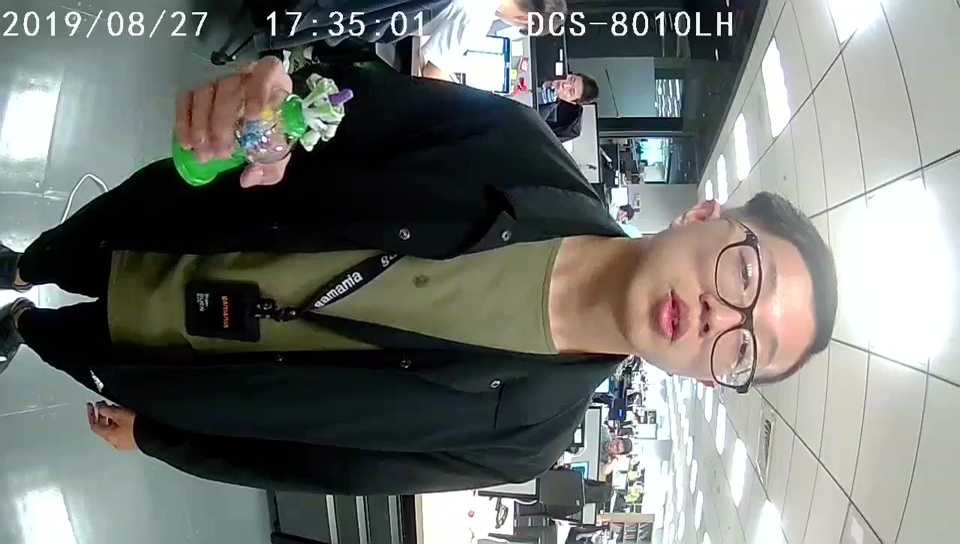buzz: (171, 69, 354, 187)
